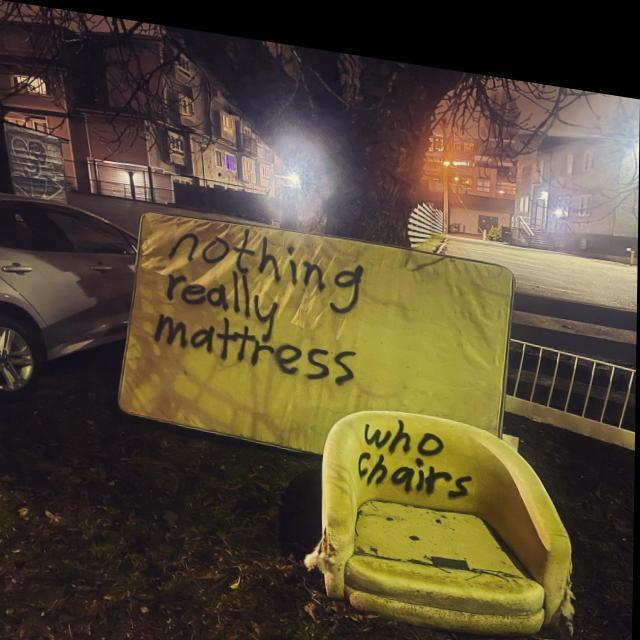nonspitting: (152, 227, 362, 389), (358, 418, 472, 501)
